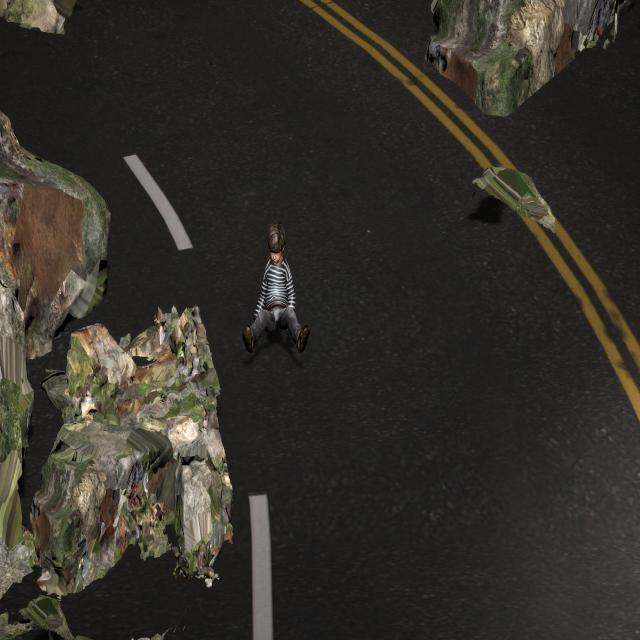Human: (240, 211, 315, 361)
